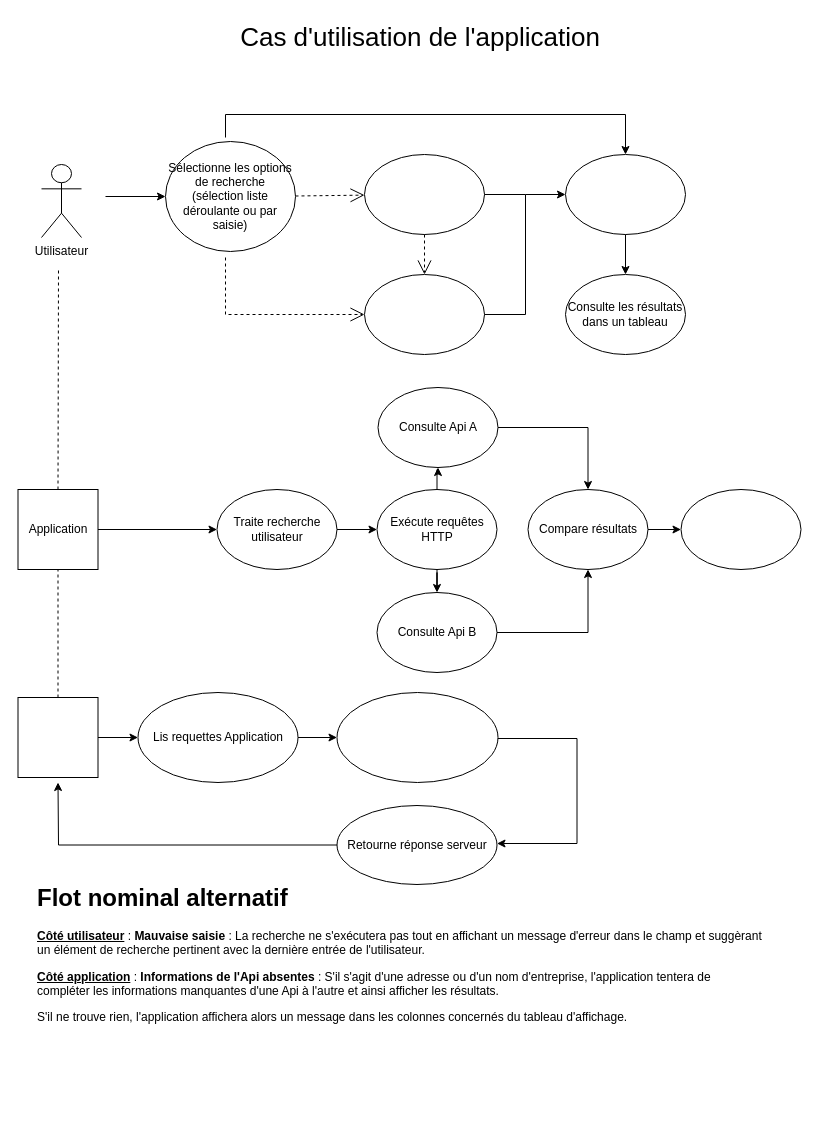
Some shapes in this 818 by 1147 pixel diagram are drawn without their labels. Each missing label, with the centre of its shape:
"(Et / Ou) selon le secteur d'activité" belongs at [424,314].
"Affiche les résultats dans un tableau (interface)" belongs at [740,529].
"Api" belongs at [57,737].
"Emet requettes vers serveur" belongs at [417,737].
"En fonction du département" belongs at [424,194].
"Valide la recherche" belongs at [625,194].
